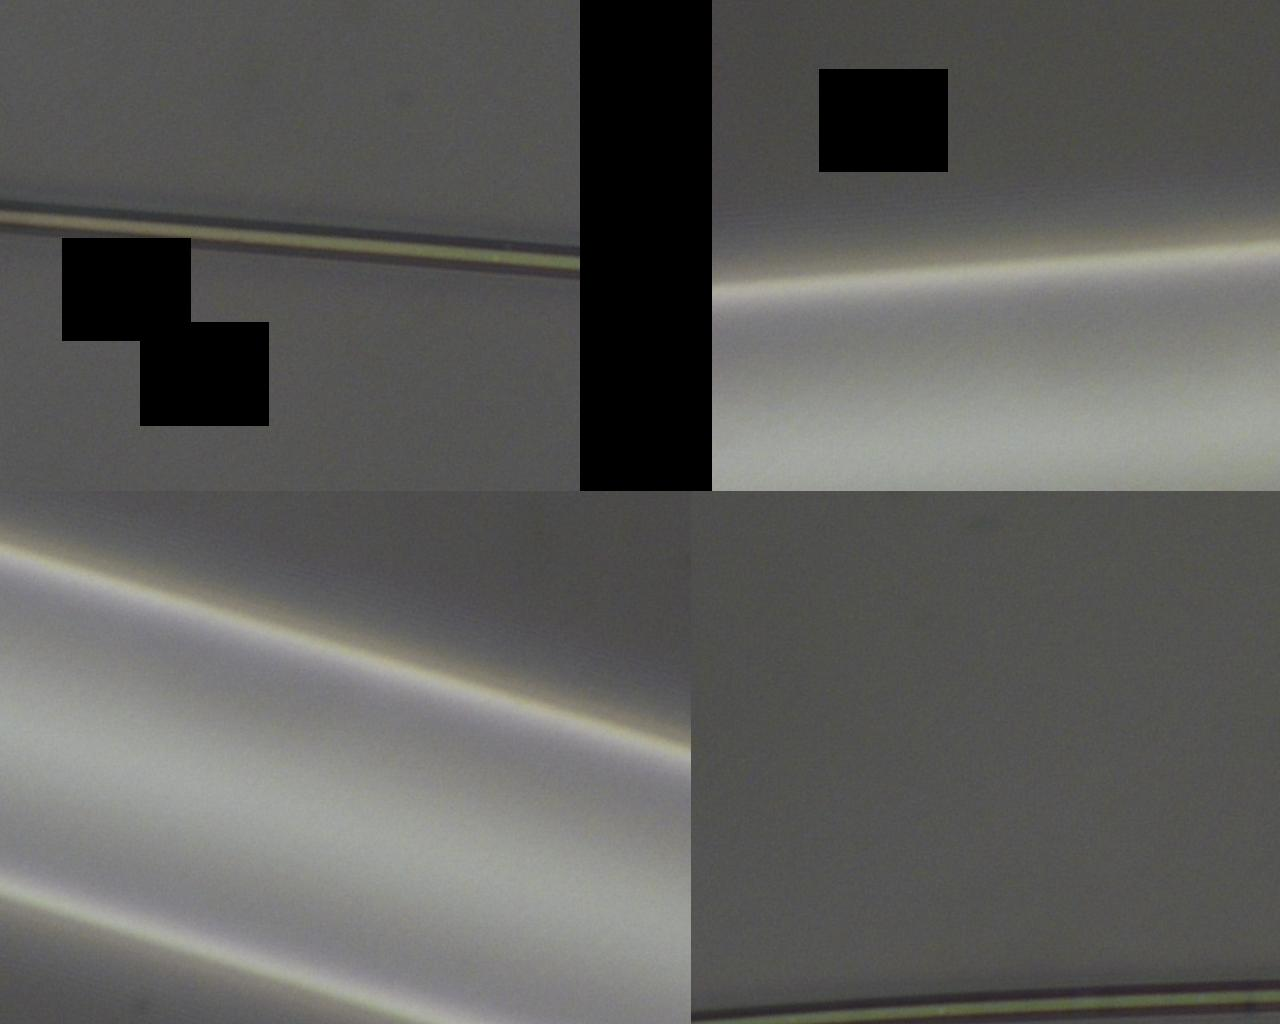fiber: (0, 622, 512, 1003), (671, 583, 1043, 1024), (839, 0, 1061, 583), (219, 0, 276, 583)
